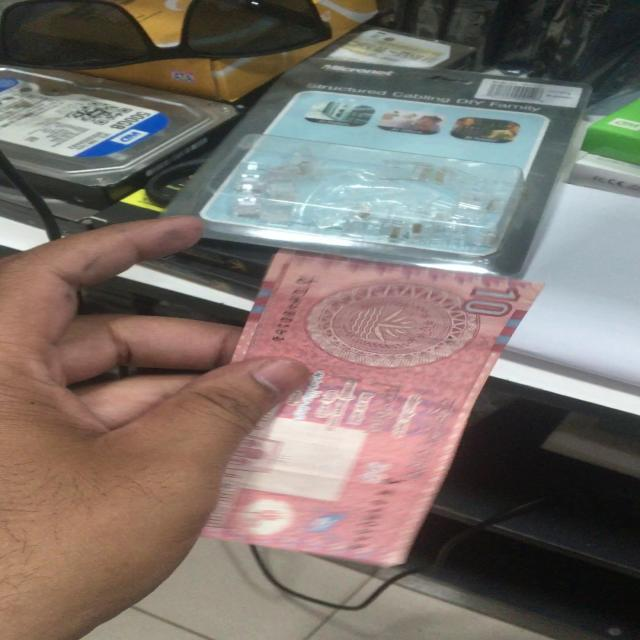Taka: (244, 252, 530, 562)
